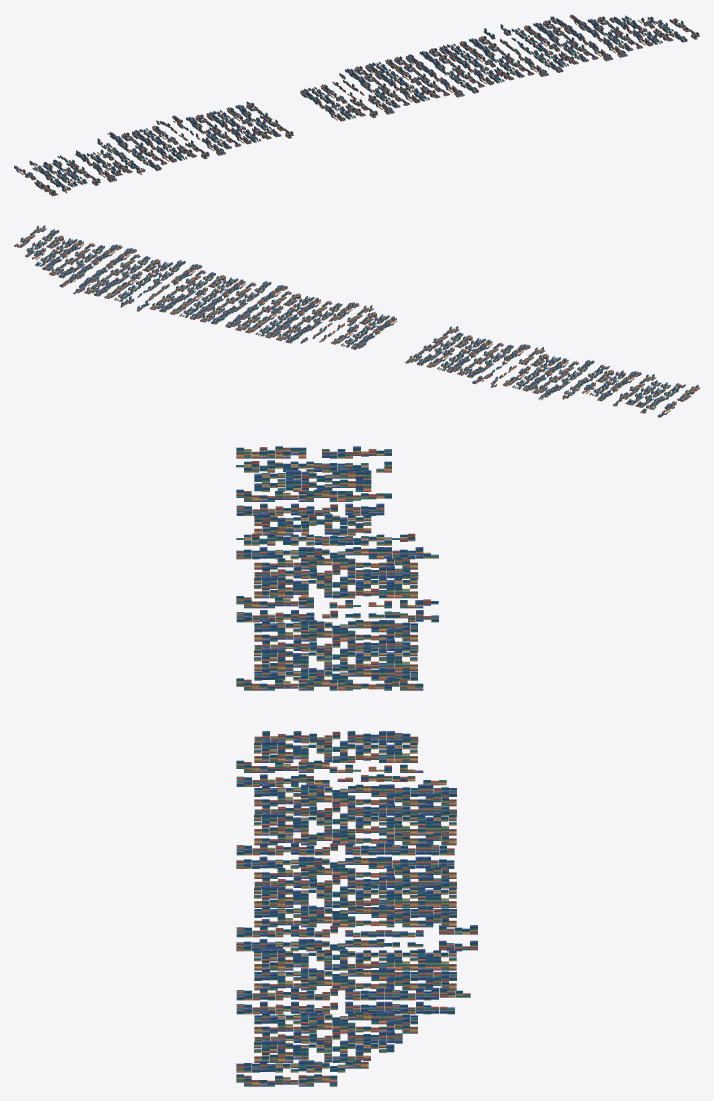
Rendered from Contianers.FBX.
3 renders of one model, top to bottom at view 1: azimuth 30°, elevation 25°; view 2: azimuth 150°, elevation 25°; view 3: azimuth 270°, elevation 25°, orthographic. The views are drawn at different scales.
Visible parts, largest first — view 1: 码头前沿集装箱; view 2: 码头前沿集装箱; view 3: 码头前沿集装箱.
Boxes of the visible parts, x1=… form: 码头前沿集装箱: x1=14, y1=14, x2=699, y2=196; 码头前沿集装箱: x1=14, y1=225, x2=699, y2=417; 码头前沿集装箱: x1=236, y1=446, x2=477, y2=1086.
Size of the model in its own units: 236881 by 1463 by 38132.
